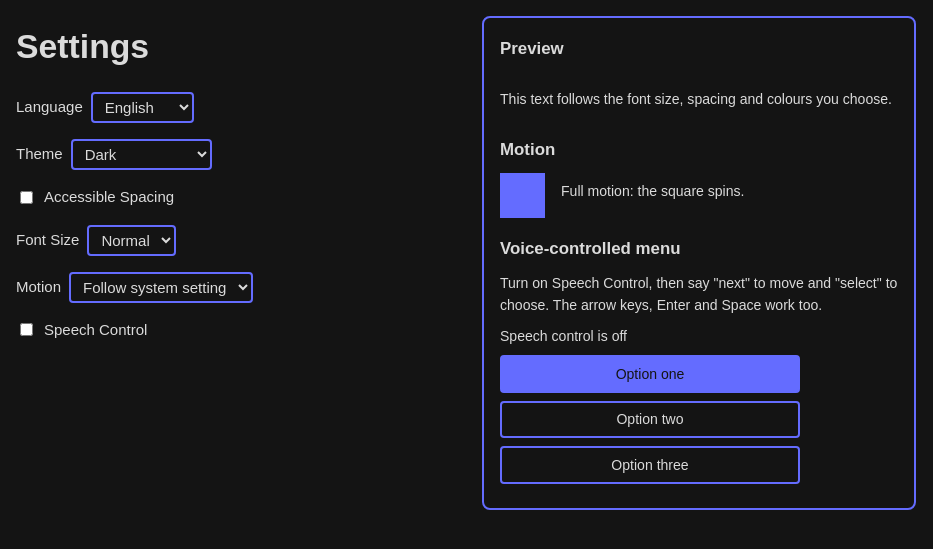
Test: the settings take effect › switches the language of the whole page, and <html lang> with it
Select "Afrikaans" in the dropdown labelled "Language". click: (142, 108)
box: x1=91 y1=92 x2=194 y2=123
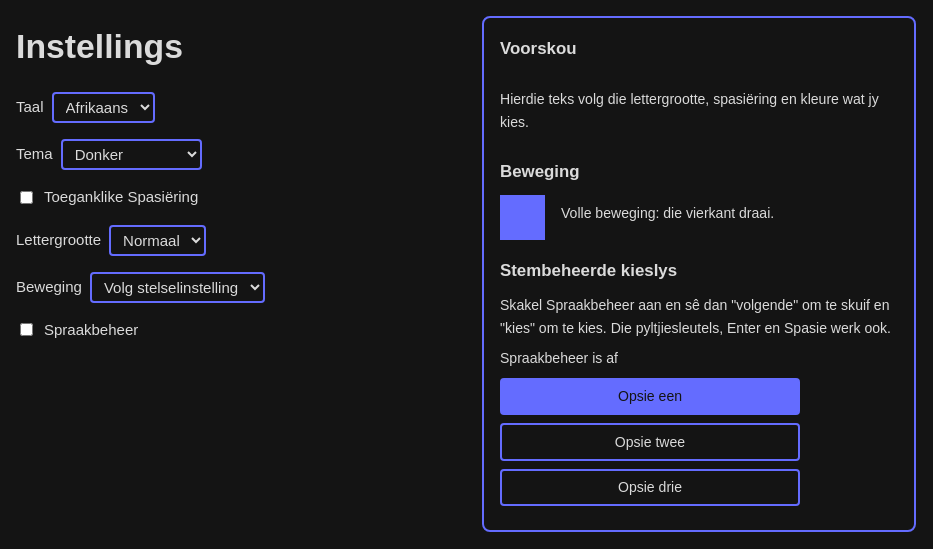
Check: the dropdown labelled "Tema" is shown, box x1=61 y1=139 x2=202 y2=170
Check: the heading "Instellings" is shown, box x1=16 y1=27 x2=183 y2=65
